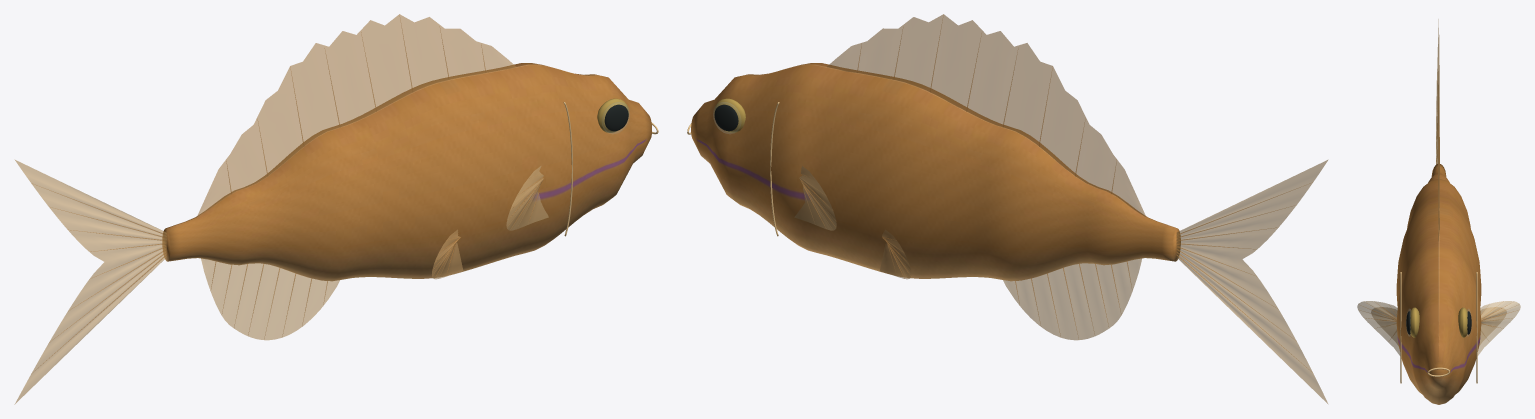
Rendered from anthias-mobile.glb.
The picture shows the model from 3 angles, left to right: view 1: azimuth 30°, elevation 25°; view 2: azimuth 150°, elevation 25°; view 3: azimuth 270°, elevation 25°; orthographic projection. The views are drawn at different scales.
Visible parts, largest first — view 1: skin, dorsal, tail, anal, dorsal-ray, pectoral-left, pelvic-left; view 2: skin, dorsal, tail, anal, dorsal-ray, pectoral-left, pelvic-left; view 3: skin, pectoral-left, pelvic-left, operculum, eye-iris--1, tail, dorsal-ray, dorsal, eye-pupil--1.
Boxes of the visible parts, x1=… form: skin: x1=162, y1=63, x2=651, y2=281; dorsal: x1=197, y1=14, x2=515, y2=216; tail: x1=14, y1=160, x2=166, y2=404; anal: x1=201, y1=258, x2=339, y2=340; dorsal-ray: x1=32, y1=17, x2=543, y2=370; pectoral-left: x1=506, y1=166, x2=548, y2=230; pelvic-left: x1=432, y1=229, x2=463, y2=279; skin: x1=691, y1=63, x2=1180, y2=281; dorsal: x1=827, y1=14, x2=1146, y2=217; tail: x1=1176, y1=160, x2=1327, y2=403; anal: x1=1003, y1=258, x2=1141, y2=340; dorsal-ray: x1=799, y1=20, x2=1312, y2=372; pectoral-left: x1=794, y1=166, x2=836, y2=230; pelvic-left: x1=880, y1=229, x2=911, y2=279; skin: x1=1396, y1=164, x2=1481, y2=404; pectoral-left: x1=1357, y1=301, x2=1520, y2=355; pelvic-left: x1=1371, y1=307, x2=1506, y2=344; operculum: x1=1400, y1=272, x2=1477, y2=383; eye-iris--1: x1=1410, y1=307, x2=1467, y2=337; tail: x1=1436, y1=19, x2=1439, y2=164; dorsal-ray: x1=1360, y1=81, x2=1517, y2=340; dorsal: x1=1438, y1=105, x2=1439, y2=240; eye-pupil--1: x1=1406, y1=311, x2=1471, y2=334.
Bounding box in the file's own units: 0.6032 × 0.2694 × 0.1621.
Materials: 11 (1 with a texture image).
